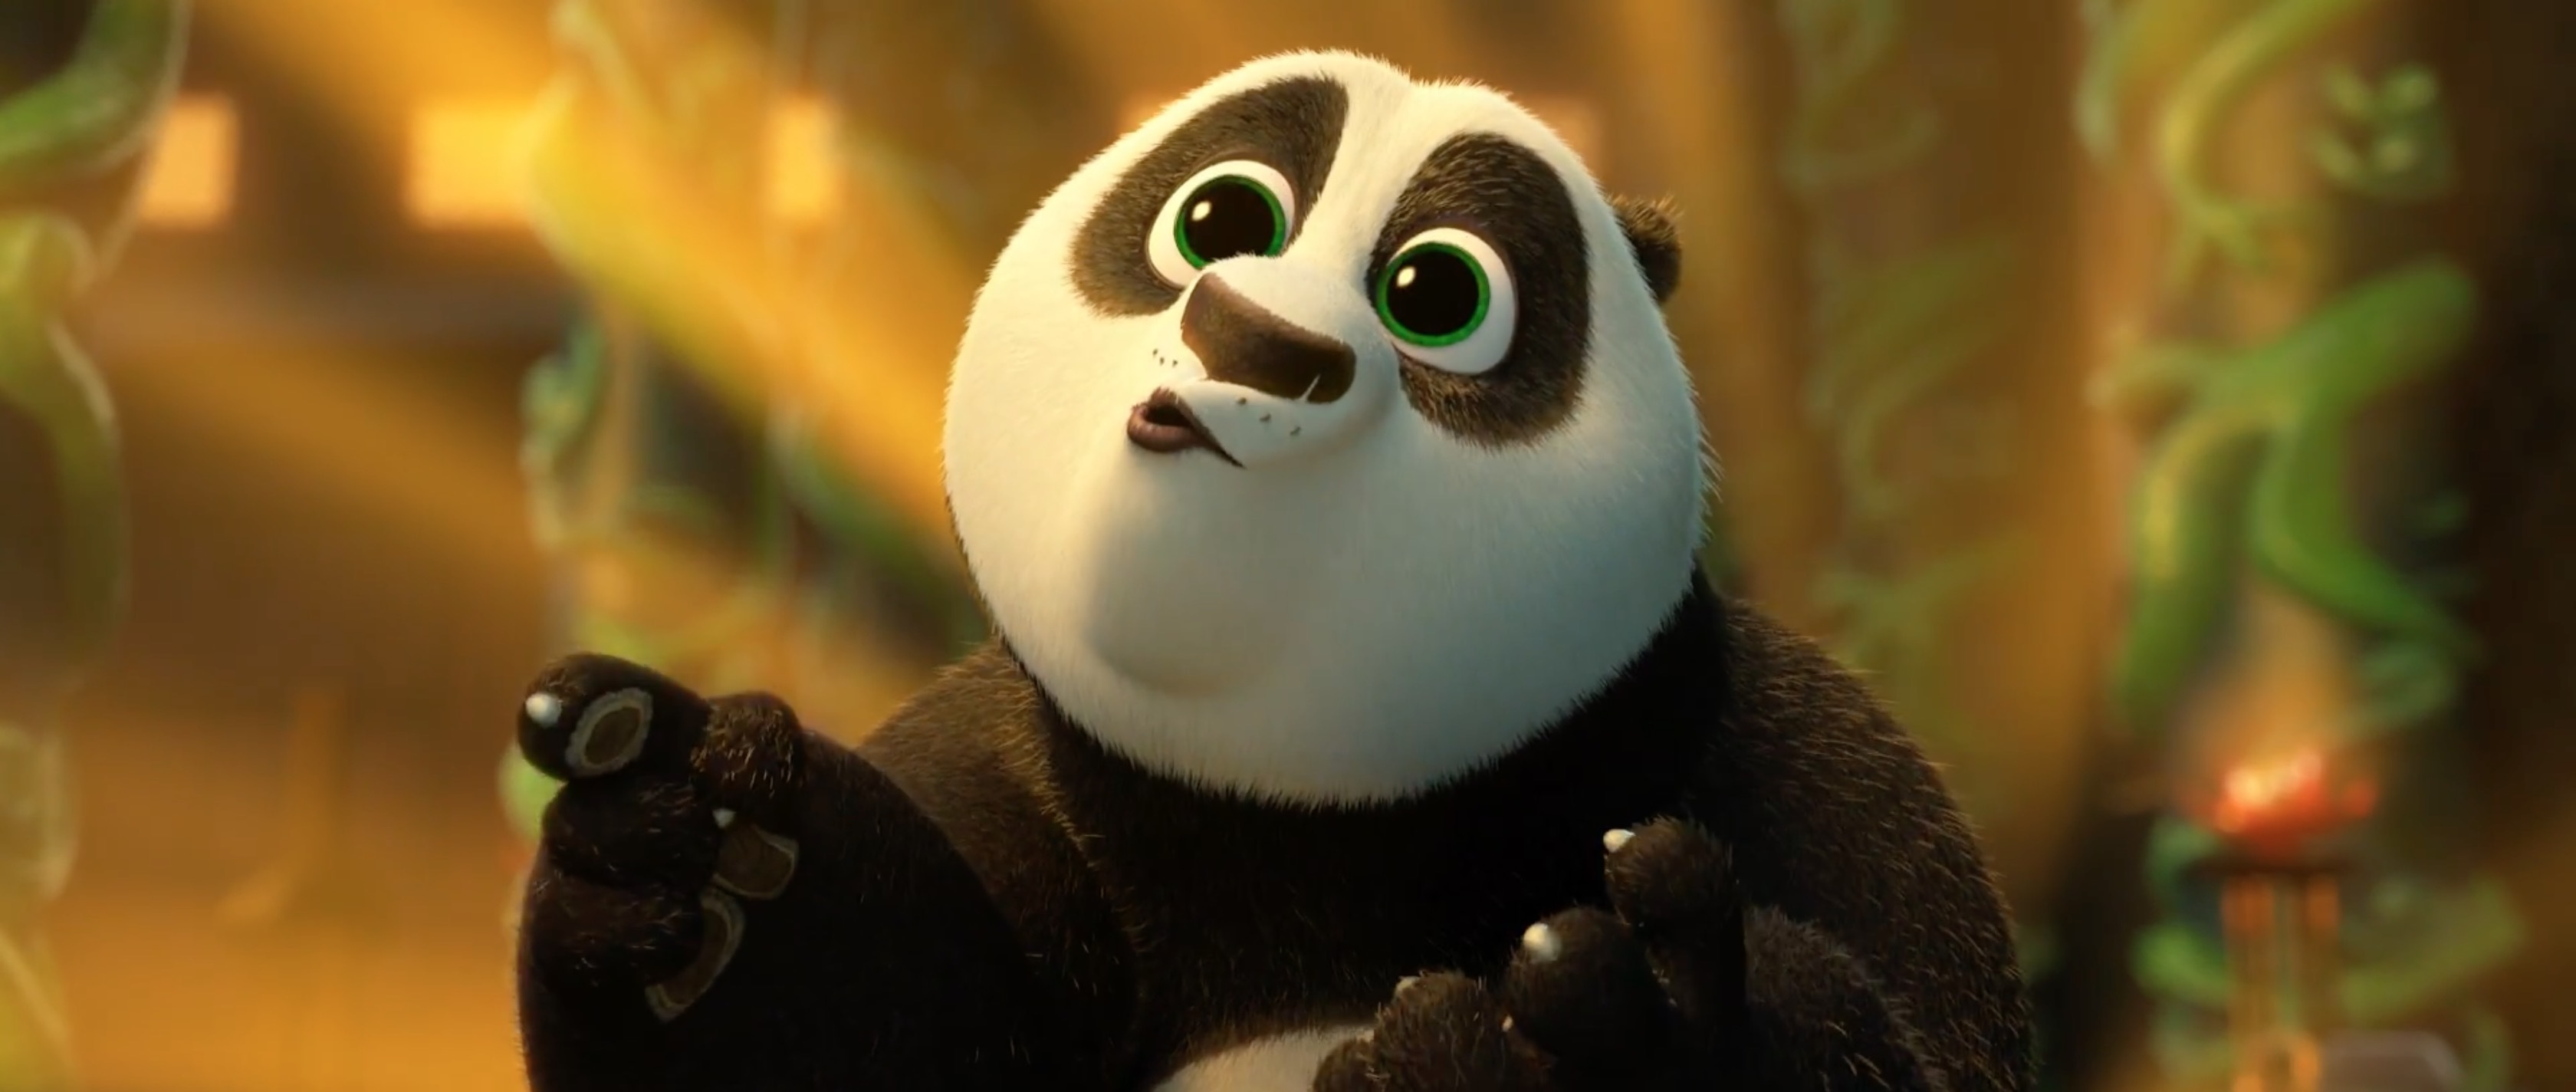panda: (495, 16, 2040, 1059)
